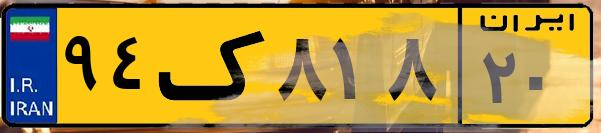0: (525, 38, 570, 115)
1: (330, 28, 385, 110)
2: (475, 38, 525, 113)
4: (110, 28, 158, 98)
8: (270, 28, 330, 110), (385, 28, 445, 110)
9: (57, 26, 110, 100)
ک: (158, 12, 270, 120)
